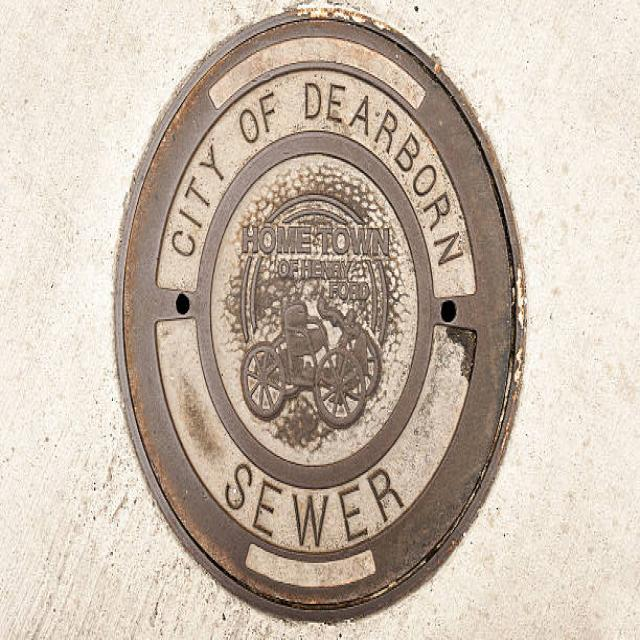Good: (108, 10, 532, 628)
